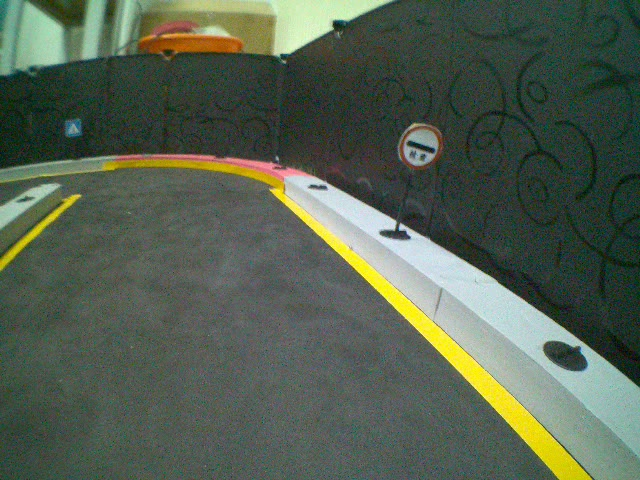Check: (397, 121, 445, 169)
crossing: (63, 117, 83, 139)
